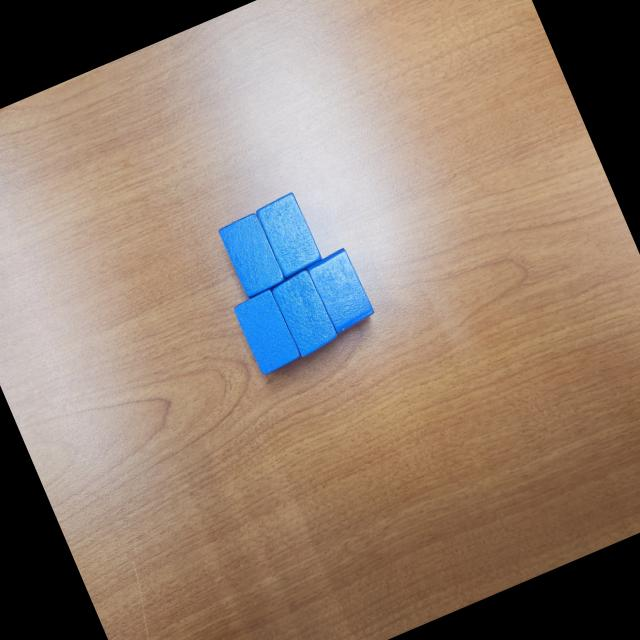blue: (214, 207, 288, 301), (268, 268, 342, 360), (230, 286, 304, 378), (304, 245, 378, 336), (253, 190, 325, 280)
